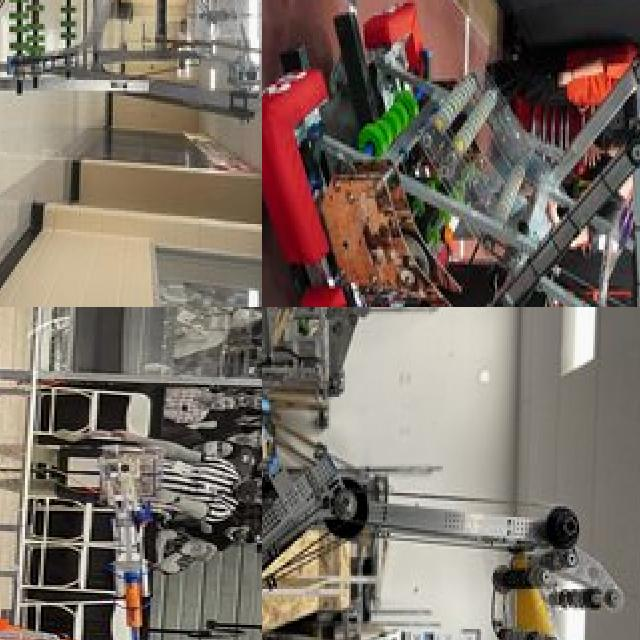FRC-Robots: (262, 341, 640, 640), (273, 0, 640, 307), (0, 0, 262, 231), (0, 423, 164, 640)
